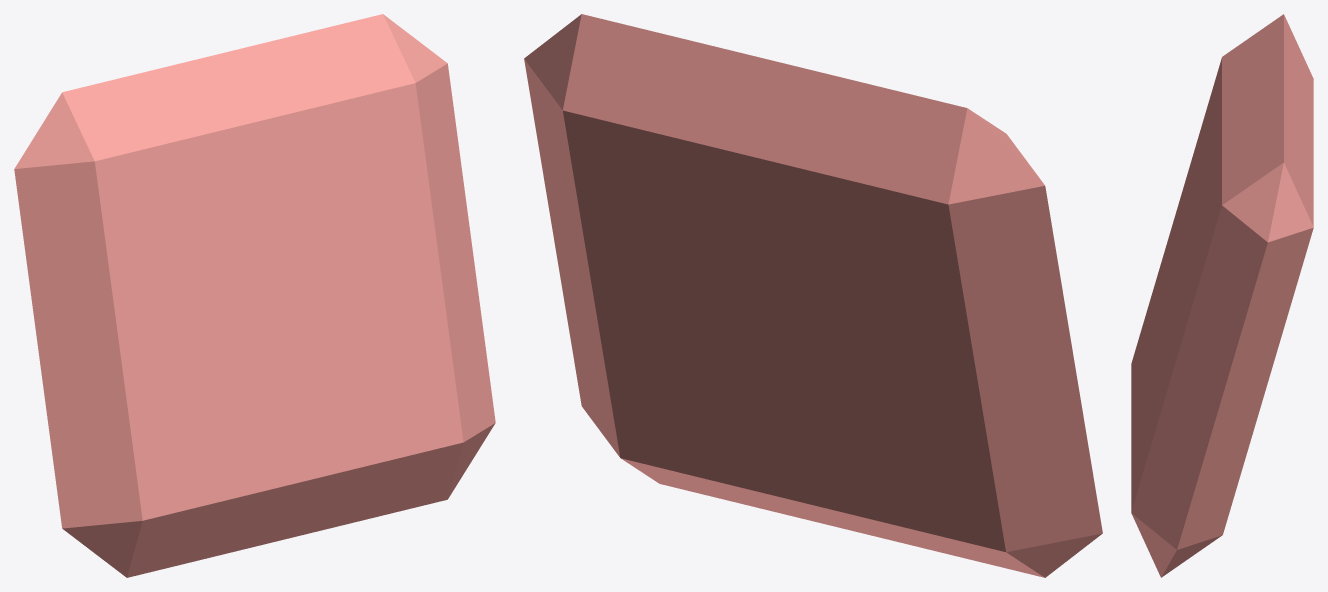
Rendered from pillow.gltf.
3 renders of one model, left to right at view 1: azimuth 30°, elevation 25°; view 2: azimuth 150°, elevation 25°; view 3: azimuth 270°, elevation 25°, orthographic. The views are drawn at different scales.
Parts seen in each view (by area): view 1: pillow(Clone); view 2: pillow(Clone); view 3: pillow(Clone).
Boxes of the visible parts, box(x1,y1,x2,y2) form: pillow(Clone): box(14, 14, 495, 577); pillow(Clone): box(524, 14, 1102, 577); pillow(Clone): box(1131, 14, 1313, 577).
Size of the model in its own units: 0.23 by 0.2222 by 0.0885.
